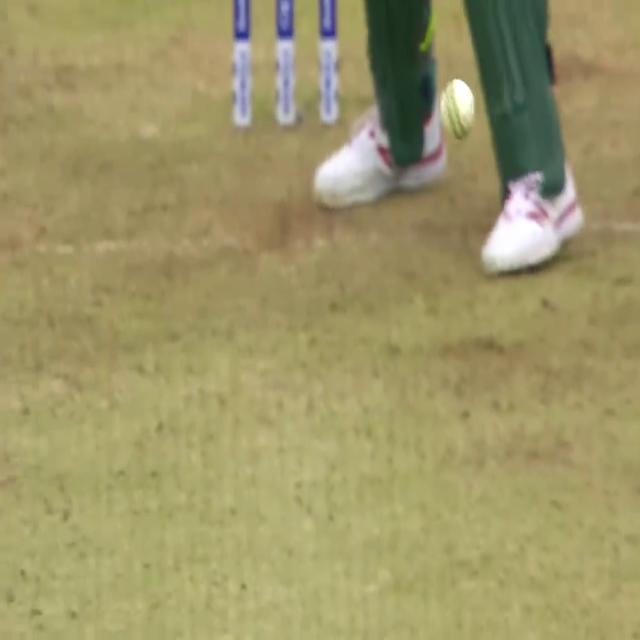ball: (433, 62, 489, 158)
